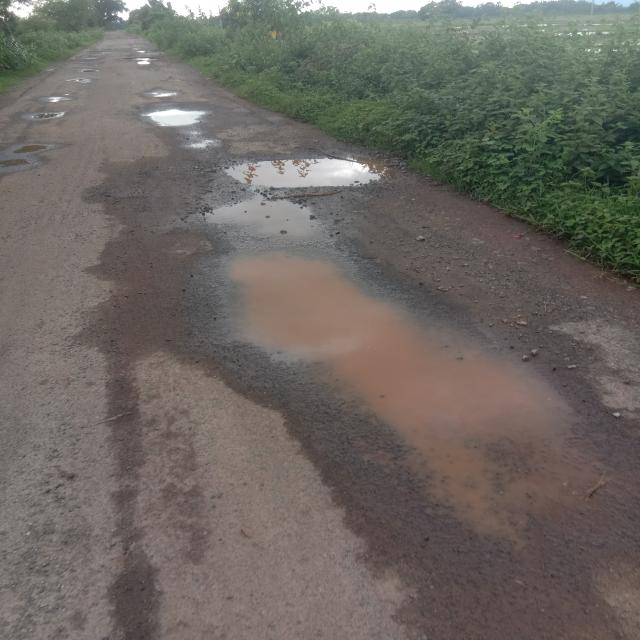potholes: (189, 152, 605, 520), (0, 135, 58, 171), (138, 103, 212, 130), (125, 44, 162, 70), (140, 86, 182, 102), (27, 108, 64, 121), (66, 73, 95, 89)
